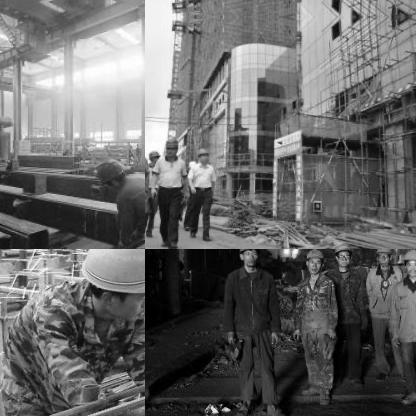Helmet: (72, 249, 144, 328), (94, 158, 126, 190), (235, 249, 262, 267), (303, 249, 324, 272), (399, 249, 415, 277), (163, 134, 179, 158), (373, 249, 391, 268), (332, 249, 352, 266), (194, 145, 208, 163), (145, 149, 159, 163)
